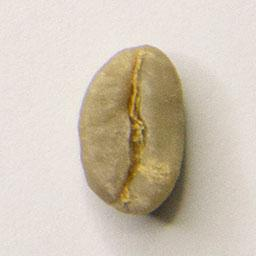longberry: (75, 41, 189, 218)
